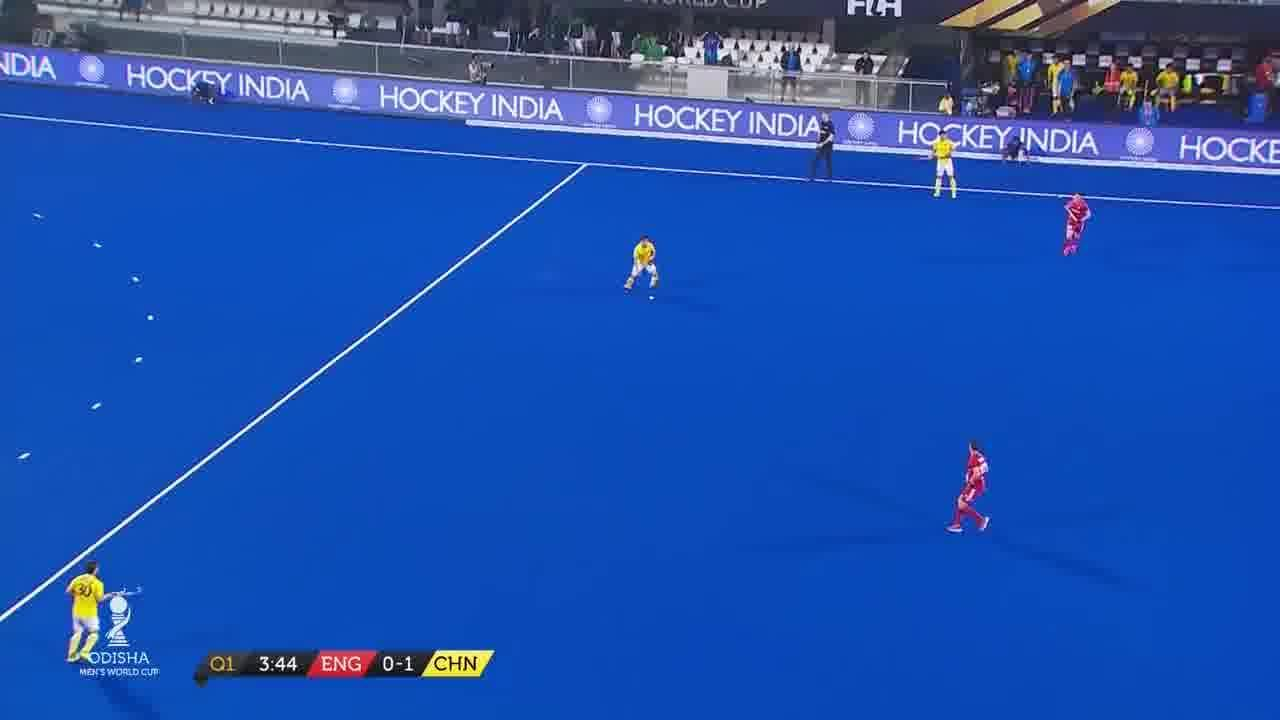ball: (648, 292, 656, 302)
